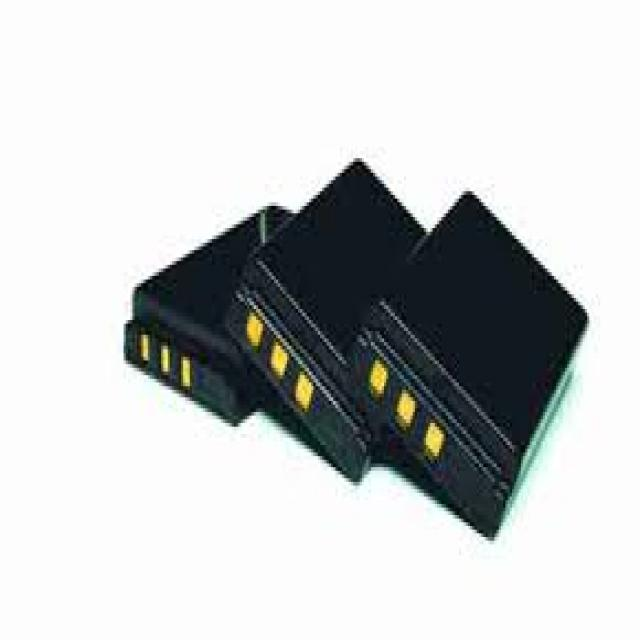non-organic waste: (357, 191, 590, 542), (225, 155, 426, 486), (120, 202, 306, 428)
